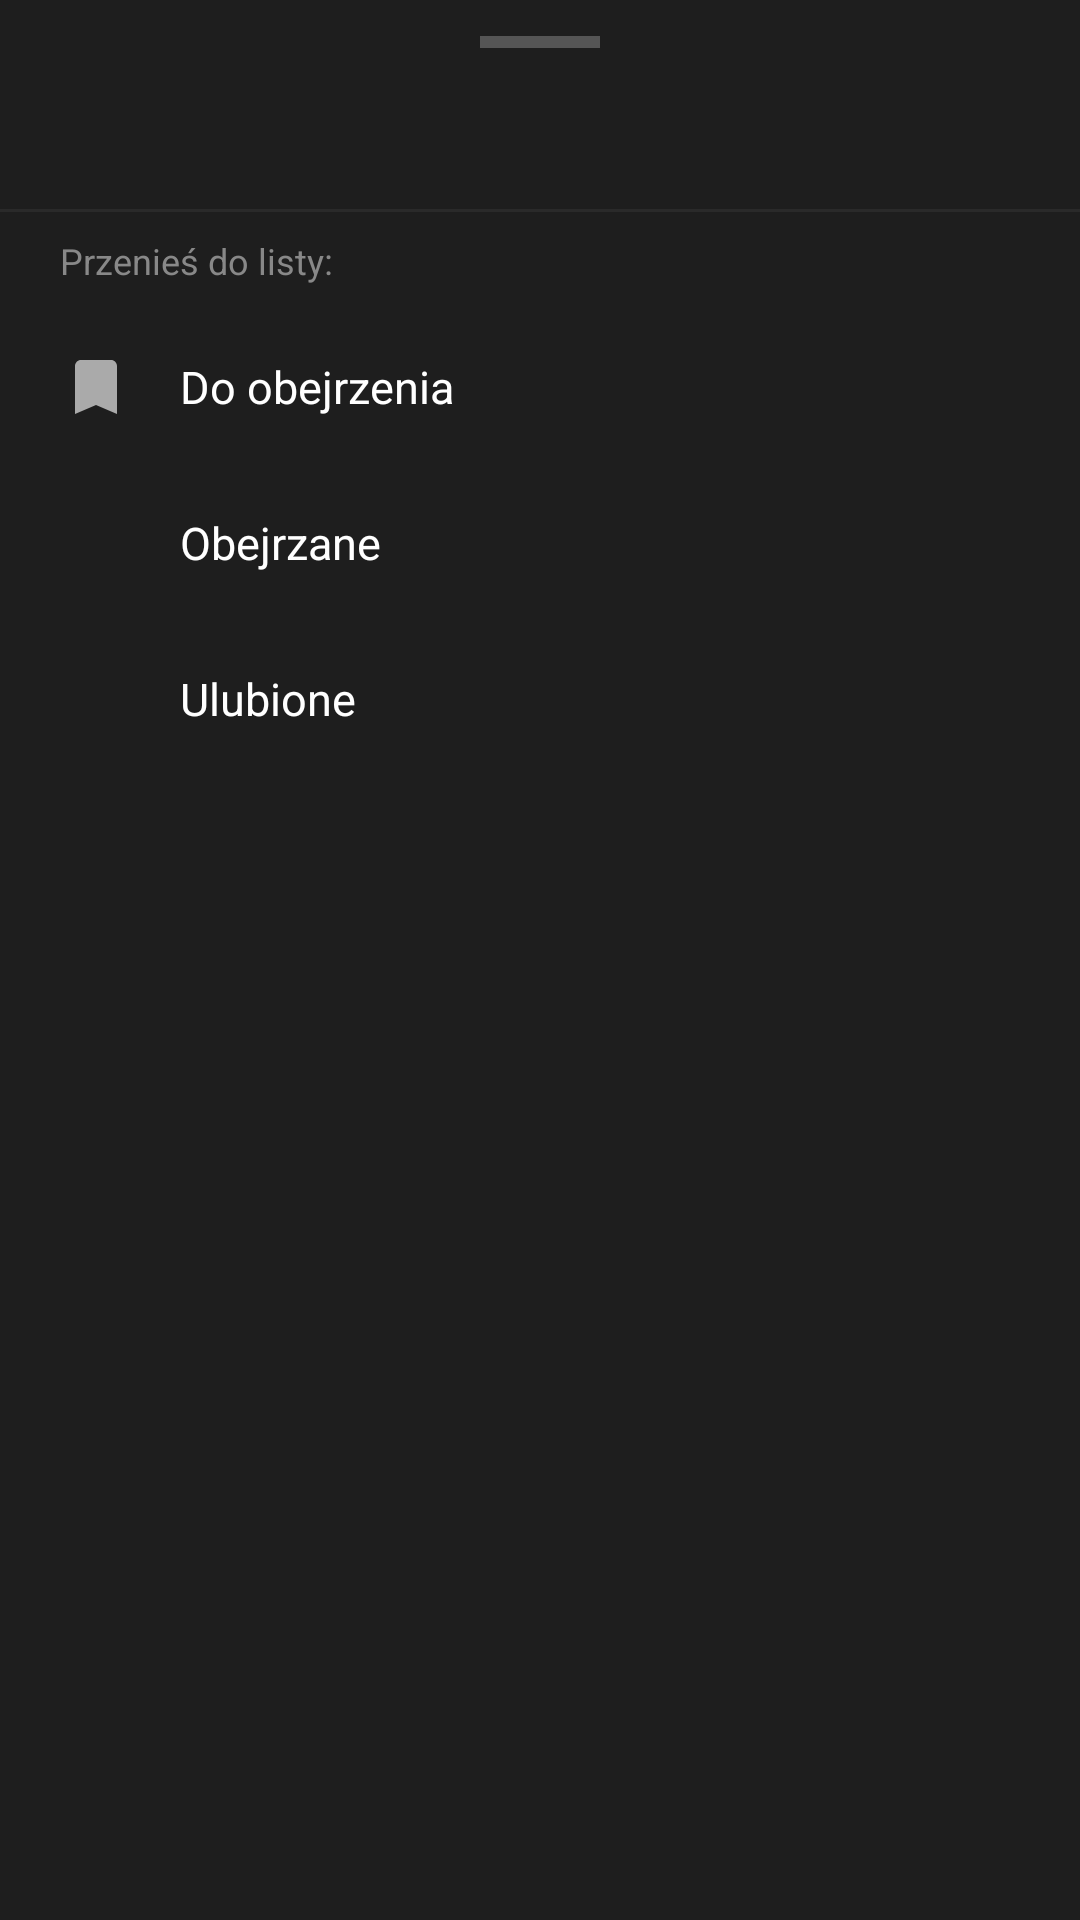

Point at icon controls on the screen. Image size 1080px x 1920px, points as (x,y).
watchlist: (96,387)
